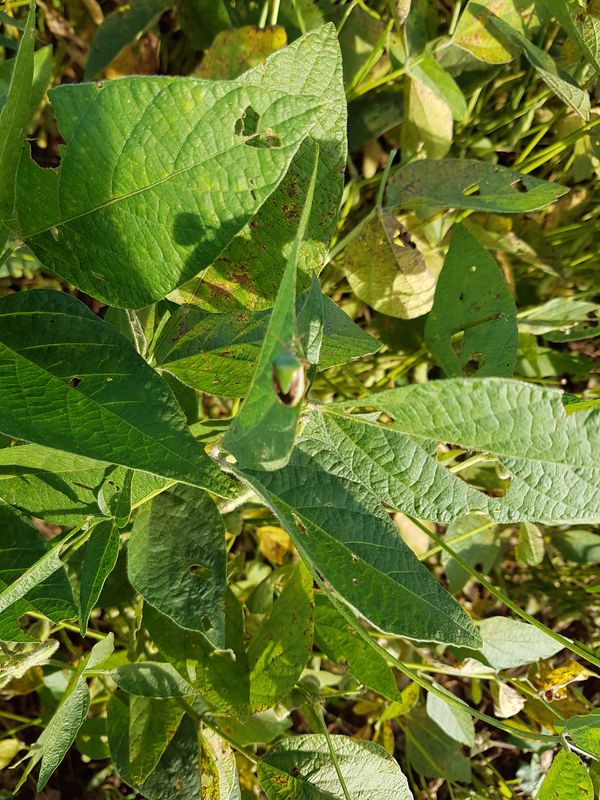Edessa_meditabunda: (254, 333, 327, 420)
